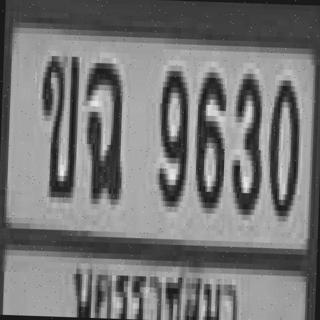A02: (37, 50, 78, 192)
A09: (80, 57, 124, 199)
N00: (266, 74, 299, 211)
N03: (227, 68, 262, 210)
N06: (193, 66, 225, 203)
N09: (155, 65, 187, 202)
P30: (67, 251, 246, 320)
